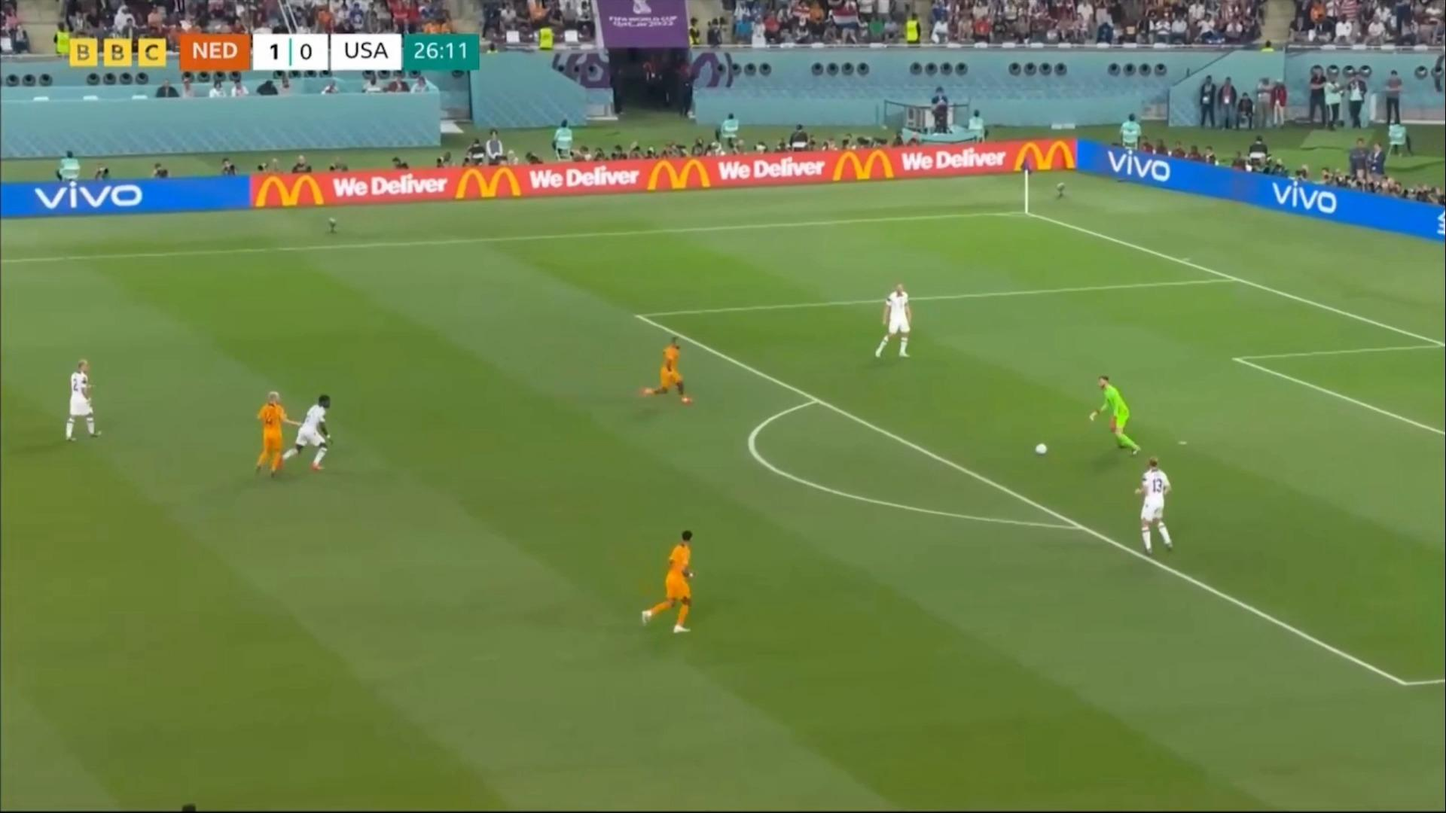Ball: (1033, 441, 1047, 455)
Player: (638, 530, 703, 639), (1127, 457, 1180, 558), (278, 391, 338, 474), (57, 357, 106, 449), (636, 335, 694, 409), (875, 280, 920, 367), (1093, 375, 1141, 456), (253, 391, 298, 477)
